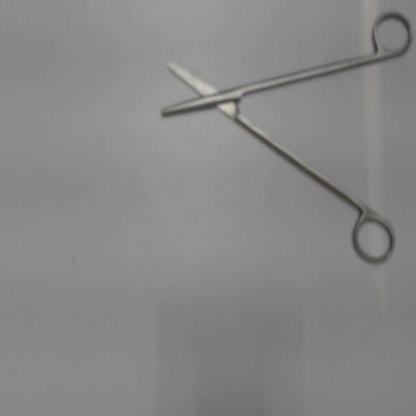9 Metzenbaum Scissors: (157, 8, 415, 271)
